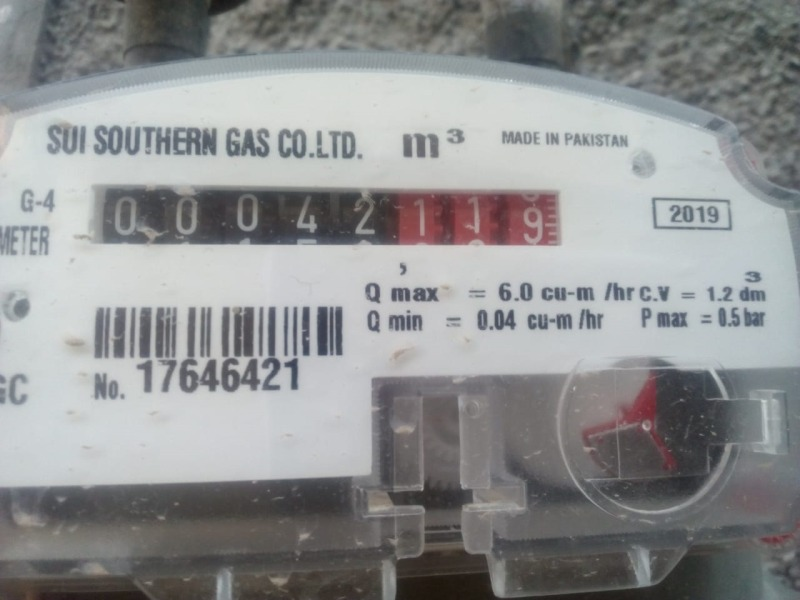ssgc: (85, 182, 565, 253)
